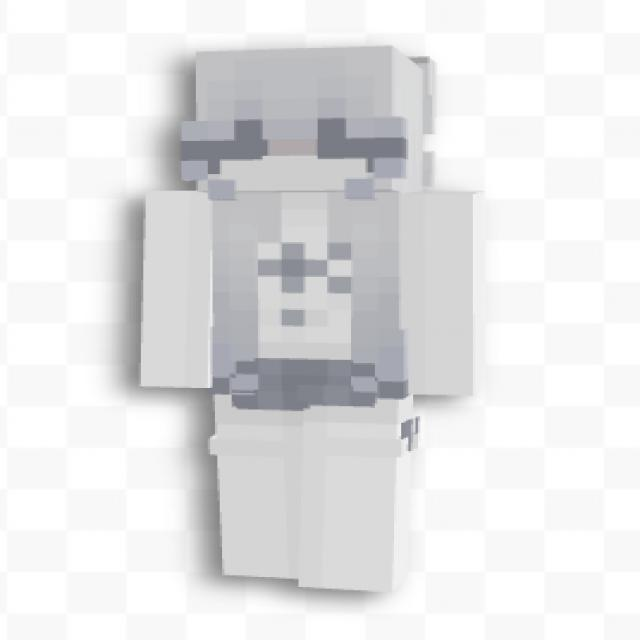Player: (145, 49, 474, 594)
